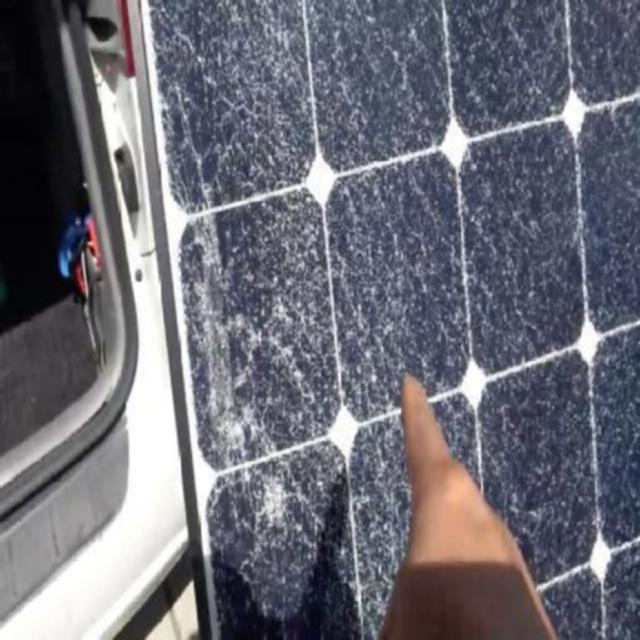cracked: (141, 6, 640, 637)
